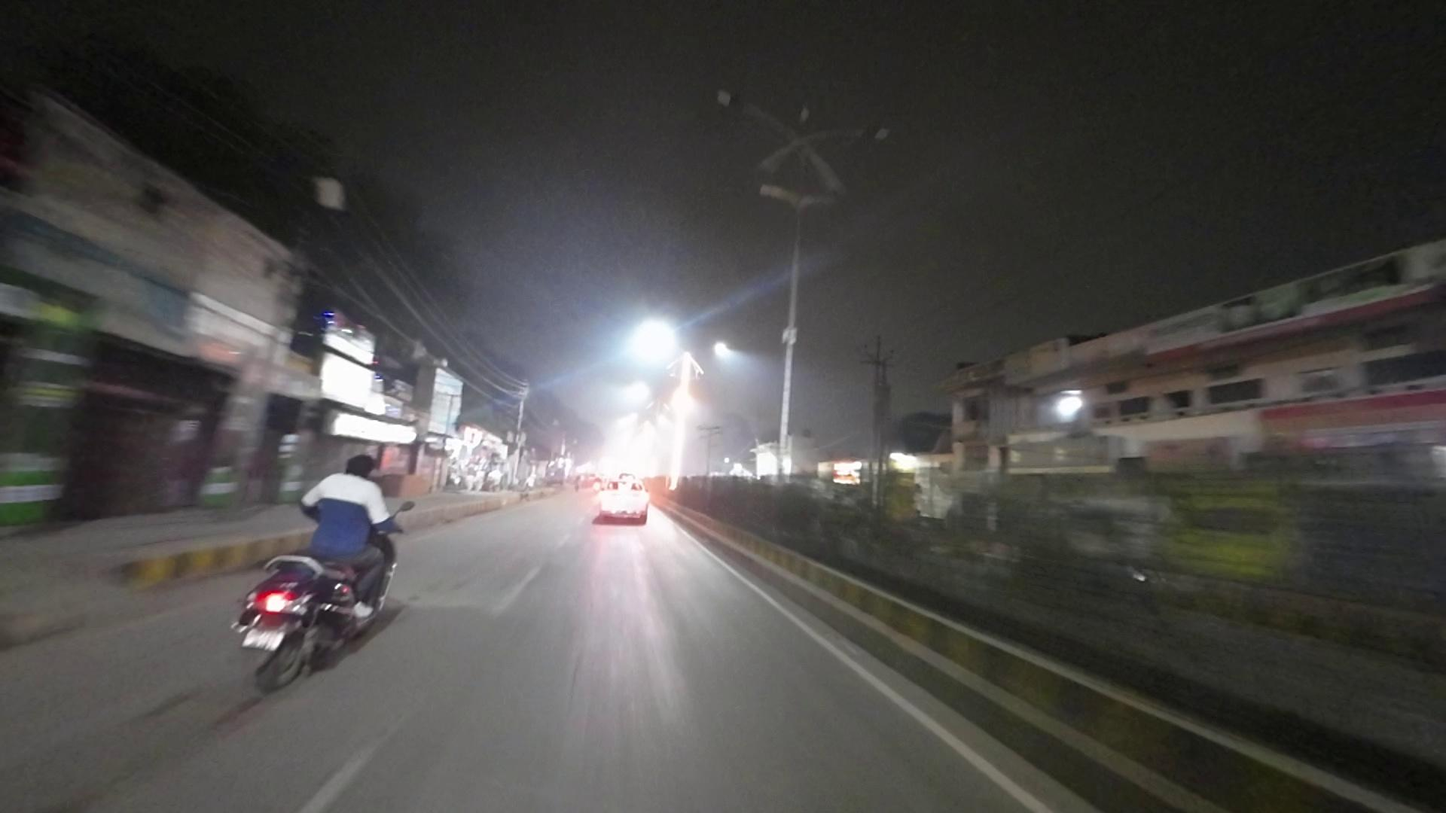streetlight: (712, 86, 798, 140), (818, 120, 890, 150)
